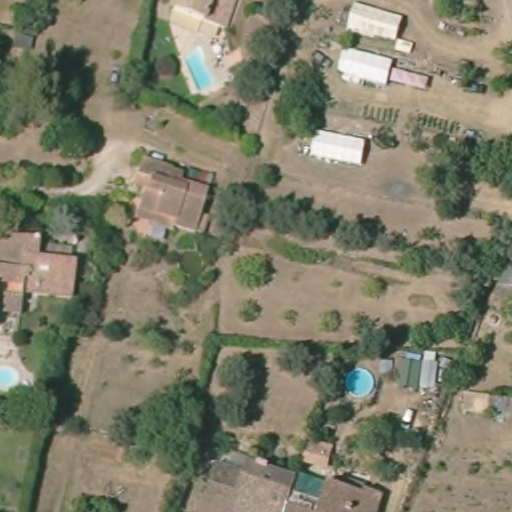pool: (180, 46, 219, 92), (343, 365, 375, 400), (1, 362, 23, 395)
